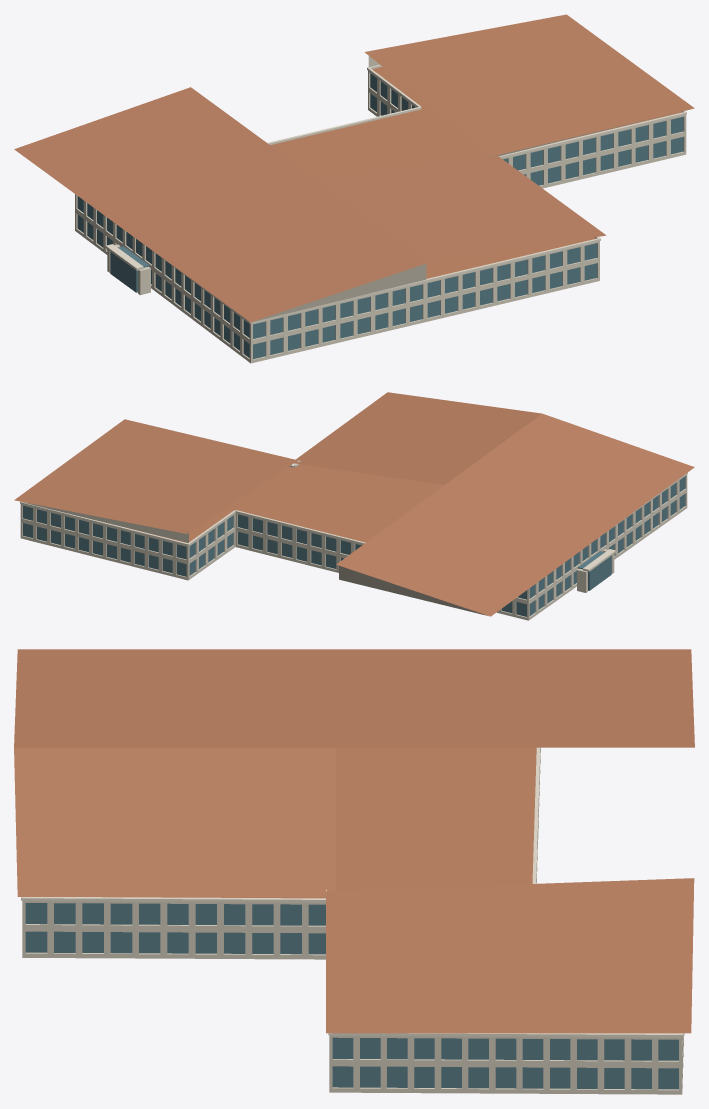
The model's file is canteen1.far.glb.
3 renders of one model, top to bottom at view 1: azimuth 30°, elevation 25°; view 2: azimuth 150°, elevation 25°; view 3: azimuth 270°, elevation 25°, orthographic. The views are drawn at different scales.
Visible parts, largest first — view 1: roof, wall, glass, trim; view 2: roof, wall, glass, trim; view 3: roof, glass, wall, trim.
Part boxes in pixels (x1,y1,x2,y2): roof: [14, 14, 694, 322]; wall: [75, 52, 686, 363]; glass: [77, 73, 683, 359]; trim: [105, 64, 686, 323]; roof: [14, 392, 694, 616]; wall: [20, 460, 687, 620]; glass: [23, 476, 685, 616]; trim: [20, 464, 687, 571]; roof: [14, 649, 694, 1033]; glass: [25, 903, 678, 1089]; wall: [22, 747, 684, 1094]; trim: [21, 747, 683, 1037].
Size of the model in its own units: 126 by 13.5 by 92.8.
